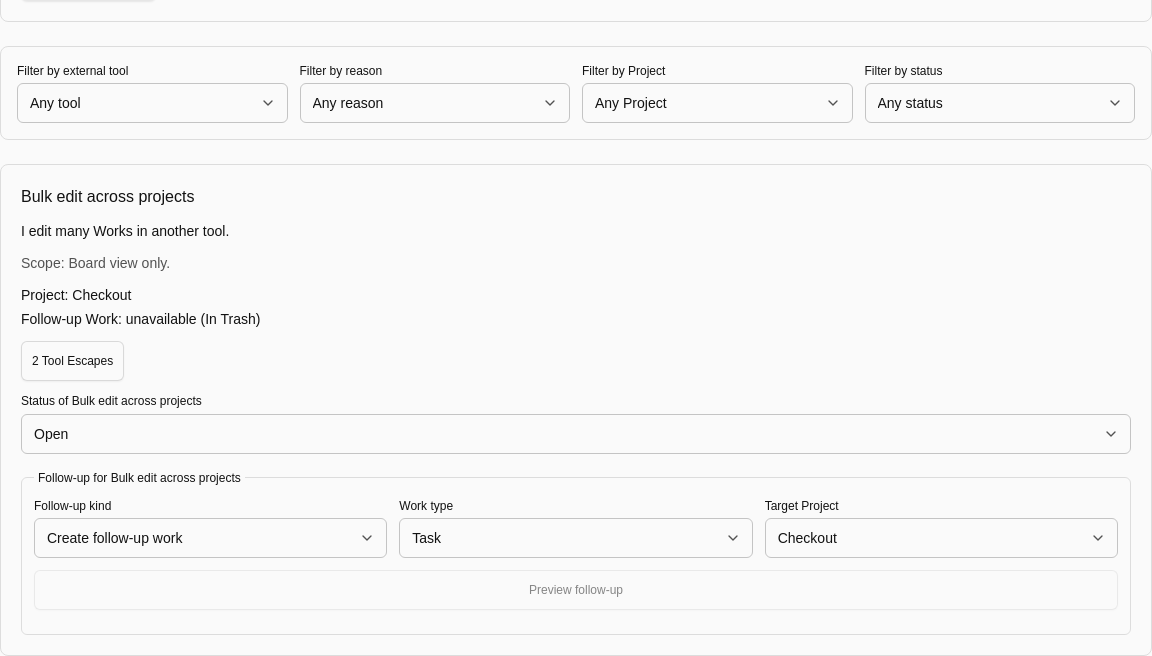
previews a follow-up before writing and confirms only on the founder's click
The image size is (1152, 656).
(page scrolled)
Select "Checkout" in the dropdown labelled "Target Project" at (941,538), box [765,518,1118,558]
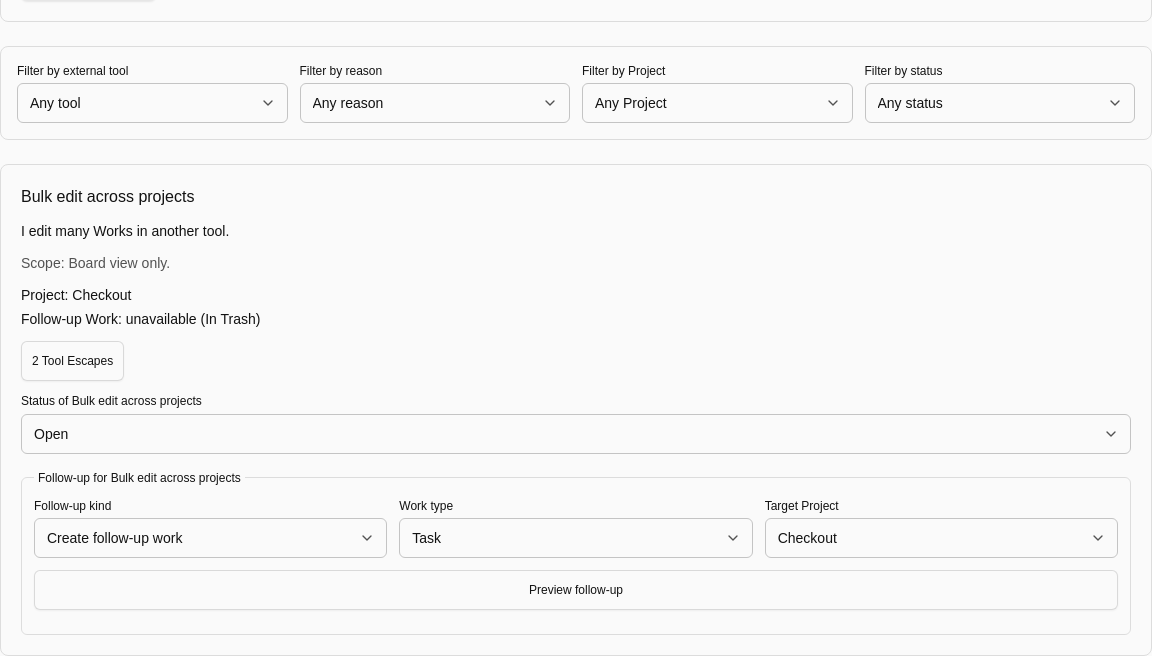
Click the button "Preview follow-up".
click(576, 590)  # box [34,570,1118,610]
(page scrolled)
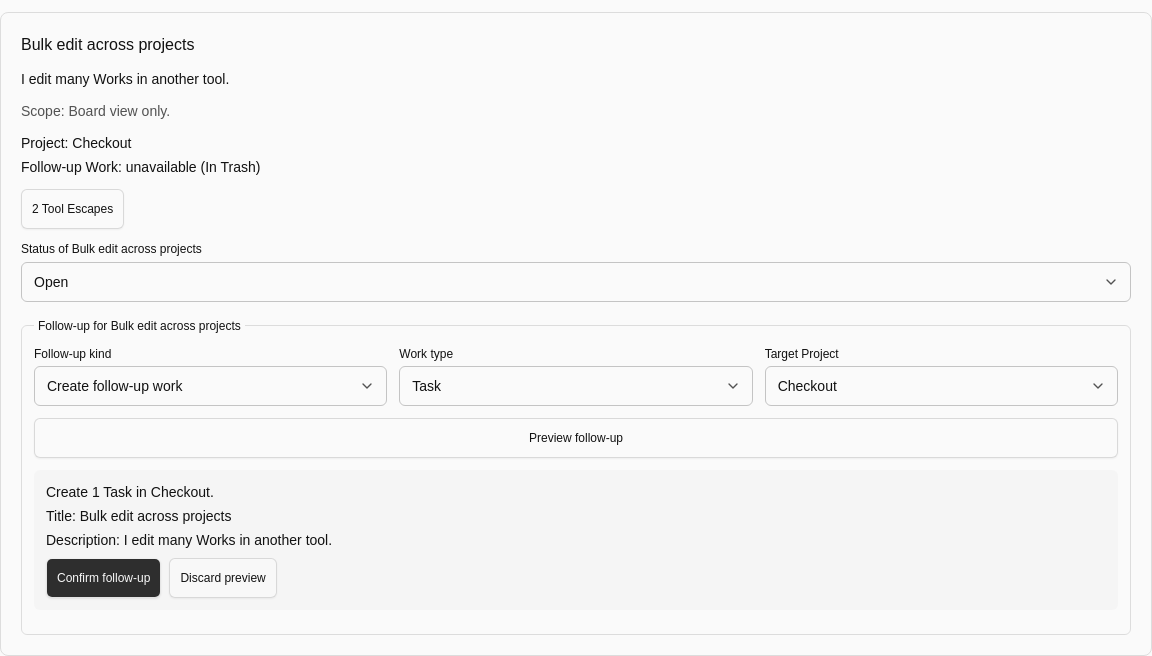
Now the text "Create 1 Task in Checkout." is shown, box [46,484,214,500]
Now the text "Title: Bulk edit across projects" is shown, box [46,508,232,524]
Click the button "Confirm follow-up".
click(104, 578)  # box [46,558,161,598]
(page scrolled)
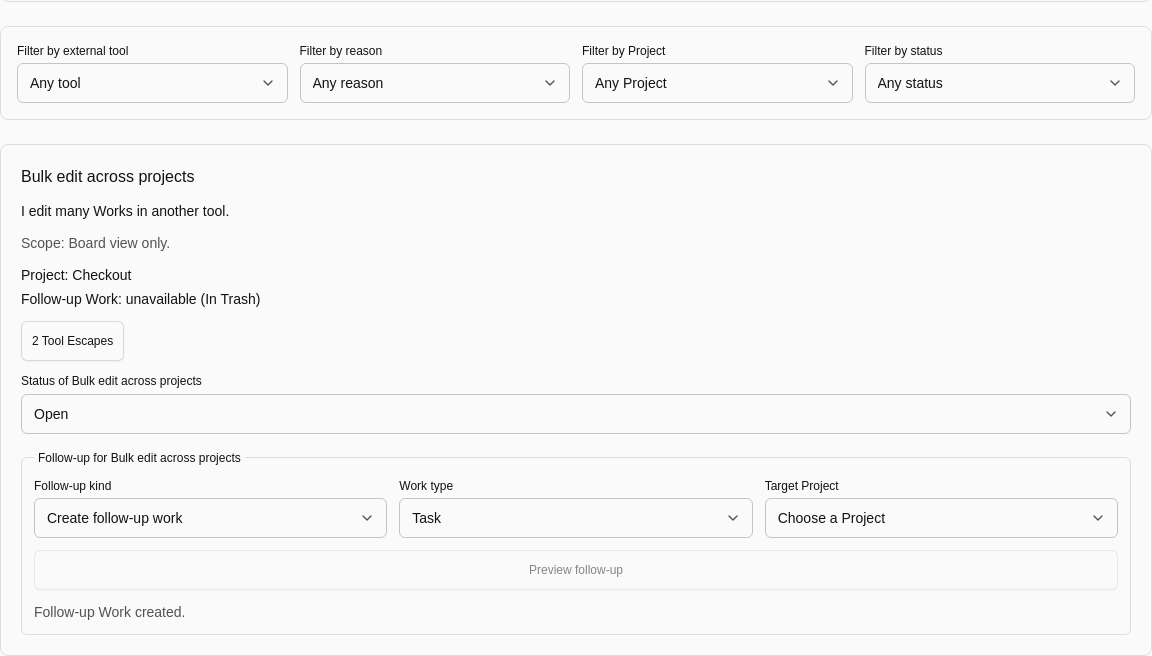
Now the text "Follow-up Work created." is shown, box [34,604,186,620]
